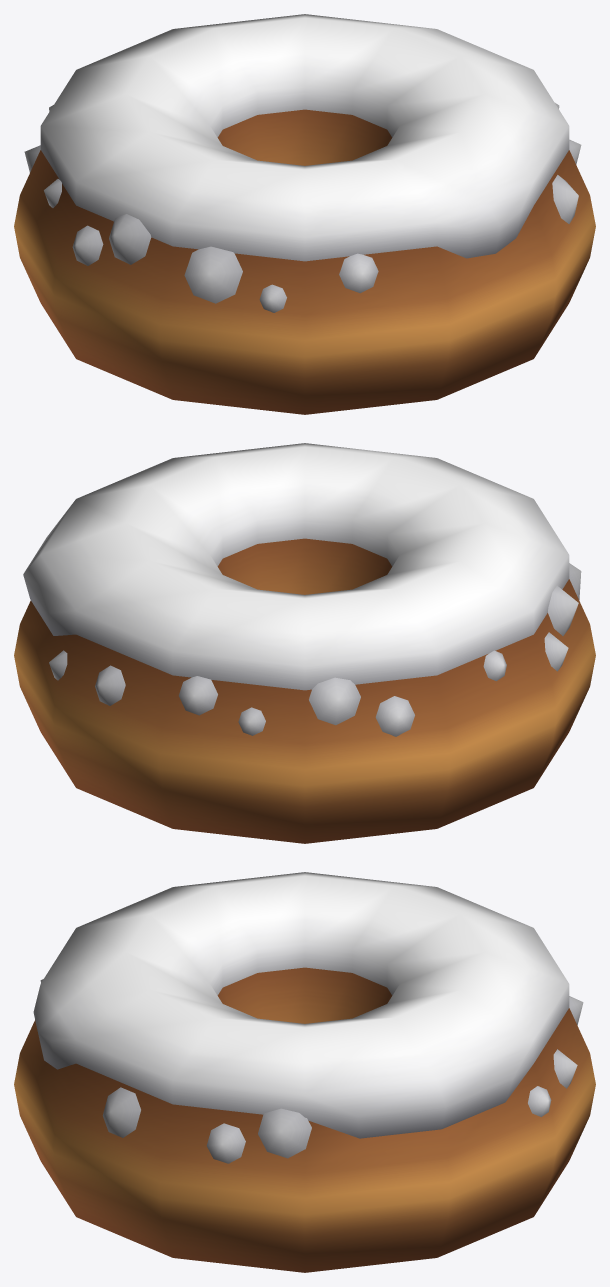
File: m_Donut01.fbx
3 renders of one model, top to bottom at view 1: azimuth 30°, elevation 25°; view 2: azimuth 150°, elevation 25°; view 3: azimuth 270°, elevation 25°, orthographic.
Visible parts, largest first — view 1: m_Donut01; view 2: m_Donut01; view 3: m_Donut01.
Part boxes in pixels (bbox=[...]): m_Donut01: bbox=[14, 14, 595, 414]; m_Donut01: bbox=[14, 443, 595, 843]; m_Donut01: bbox=[14, 872, 595, 1272].
Bounding box in the file's own units: 12.16 × 5.56 × 12.16.
